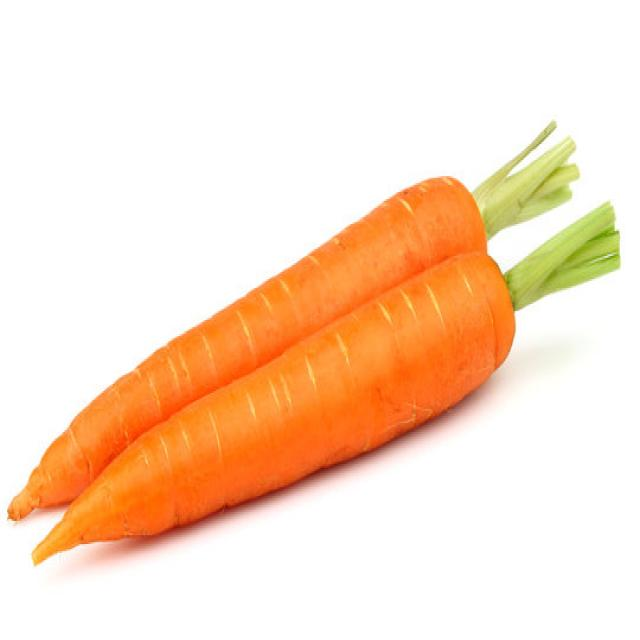Carrot: (7, 117, 620, 564)
